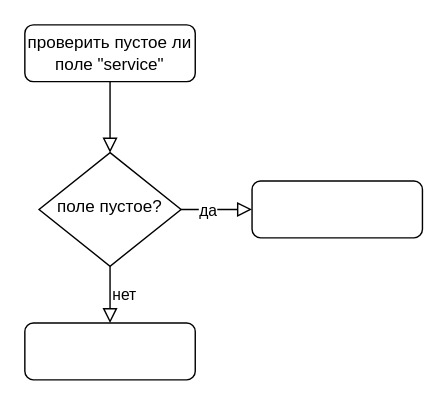
The diagram is 447 pixels wide and 405 high, and some of its shapes have lost their labels. Here are the shapes that lost their labels. From the top down, the centre of each, then its label:
At [336,209]: "Удалить объект".
At [109,351]: "Вывести ошибку".
